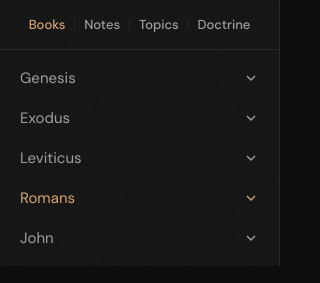
Sidebar › Notes tab › shows empty state when no notes
Click the button "Notes" at (102, 24), box [76,12,128,37]
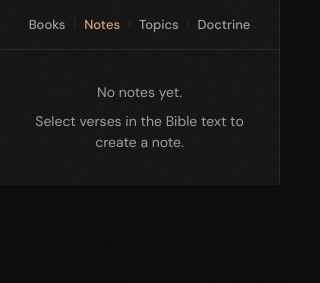
Result: the text "No notes yet." is shown at [97,83,182,101]
